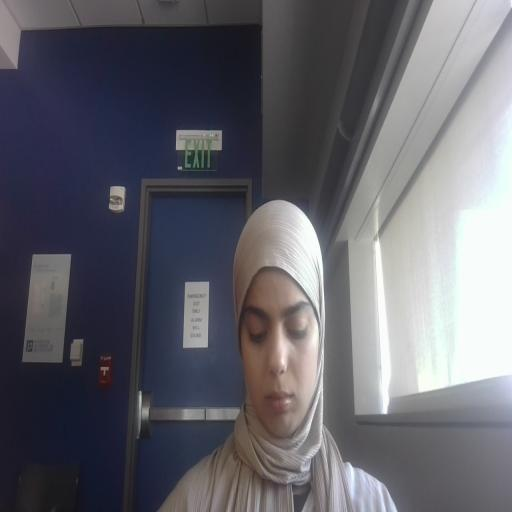lookingdownatphone: (240, 268, 318, 438)
